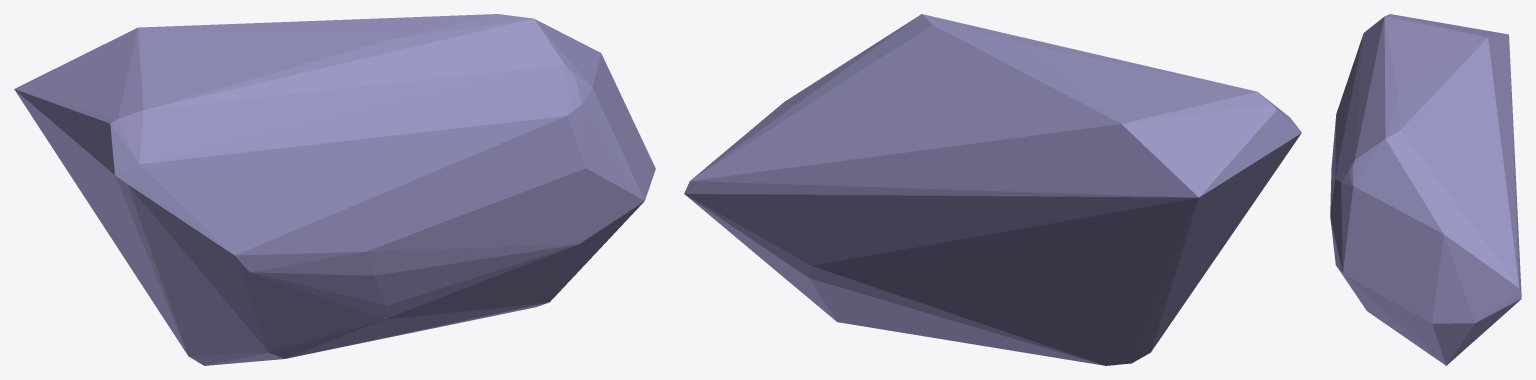
File: fuelSystem_intake_manifold_c01.glb
The picture shows the model from 3 angles, left to right: view 1: azimuth 30°, elevation 25°; view 2: azimuth 150°, elevation 25°; view 3: azimuth 270°, elevation 25°; orthographic projection. The views are drawn at different scales.
Visible parts, largest first — view 1: geometry_0; view 2: geometry_0; view 3: geometry_0.
Boxes of the visible parts, left/top/right/bottom form: geometry_0: left=14, top=14, right=655, bottom=365; geometry_0: left=684, top=14, right=1301, bottom=365; geometry_0: left=1330, top=14, right=1521, bottom=365.
Bounding box in the file's own units: 0.4642 × 0.2525 × 0.2024.
